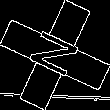N_SE: (24, 26, 86, 84)
